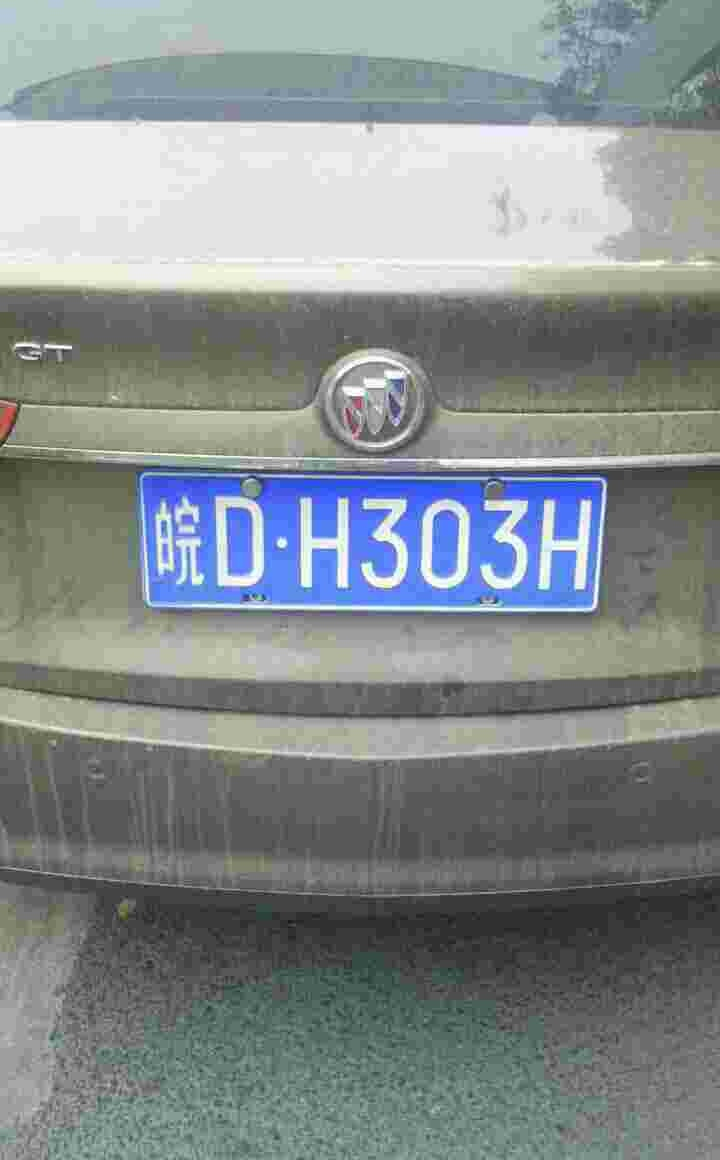license_plate: (115, 482, 610, 608)
